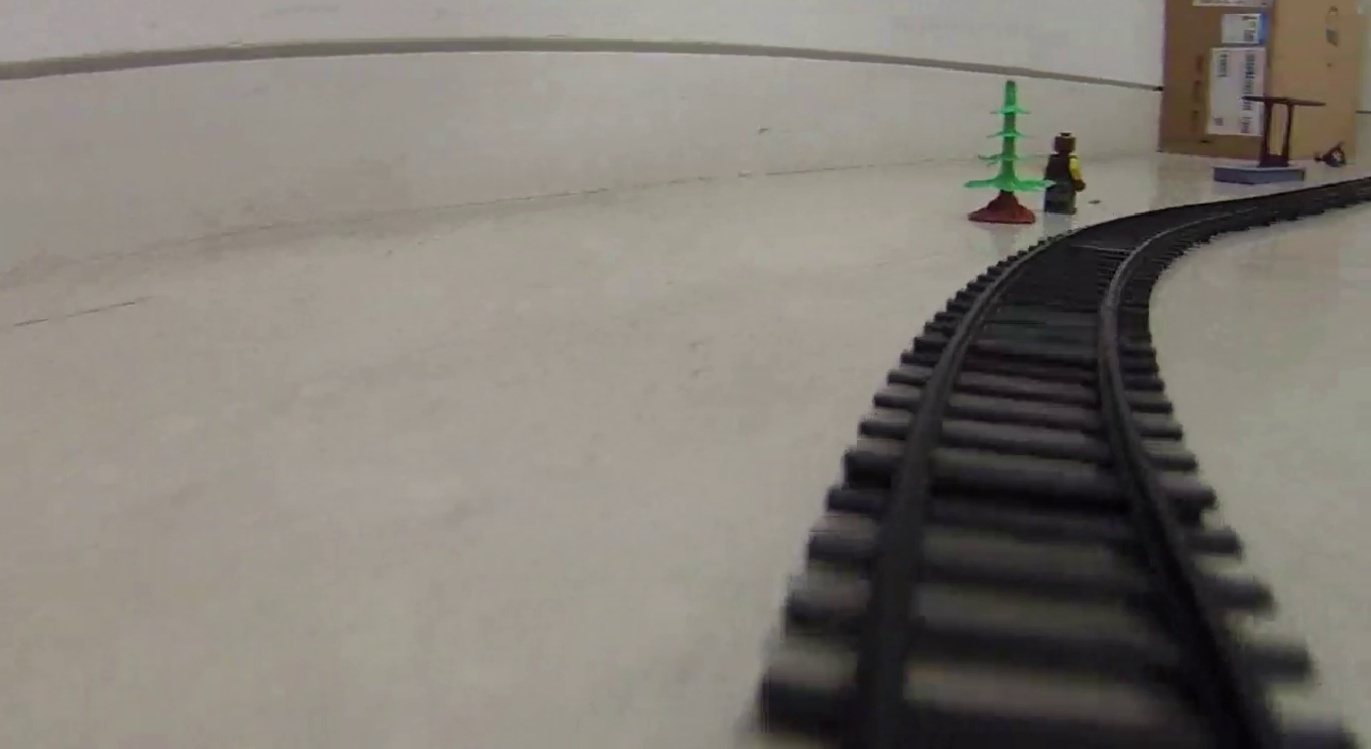people: (1040, 131, 1082, 217)
tree: (960, 77, 1045, 223)
